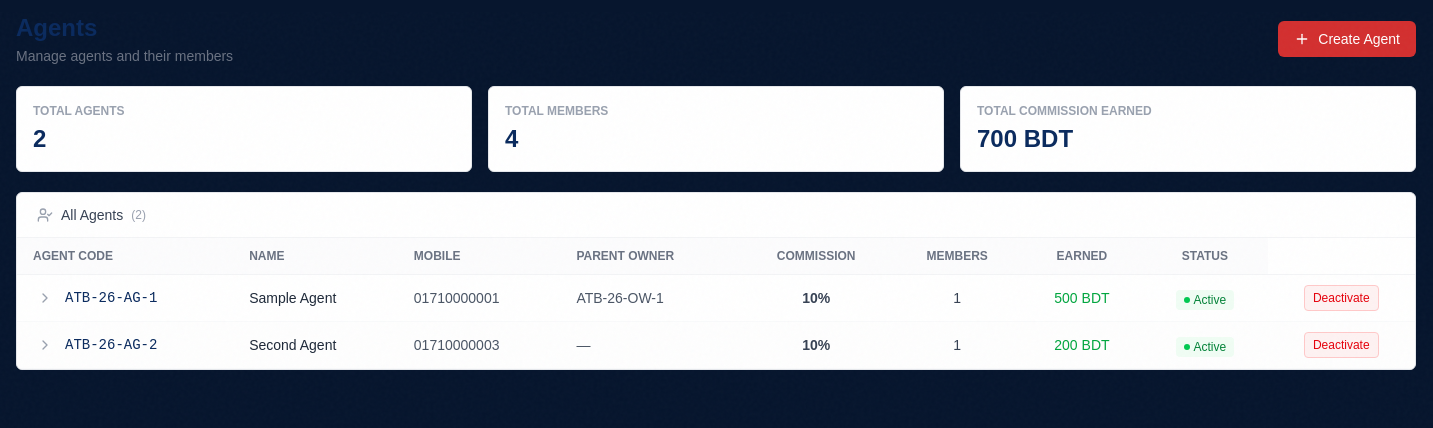
AgentsPage › expands to show member list when chevron clicked
Expected: the text "ATB-26-AG-1" is shown, [65,288,157,308]
Find the chevron button and click it
Step 1. Click the button without text next to "ATB-26-AG-1" → (45, 298), box [33,286,57,310]
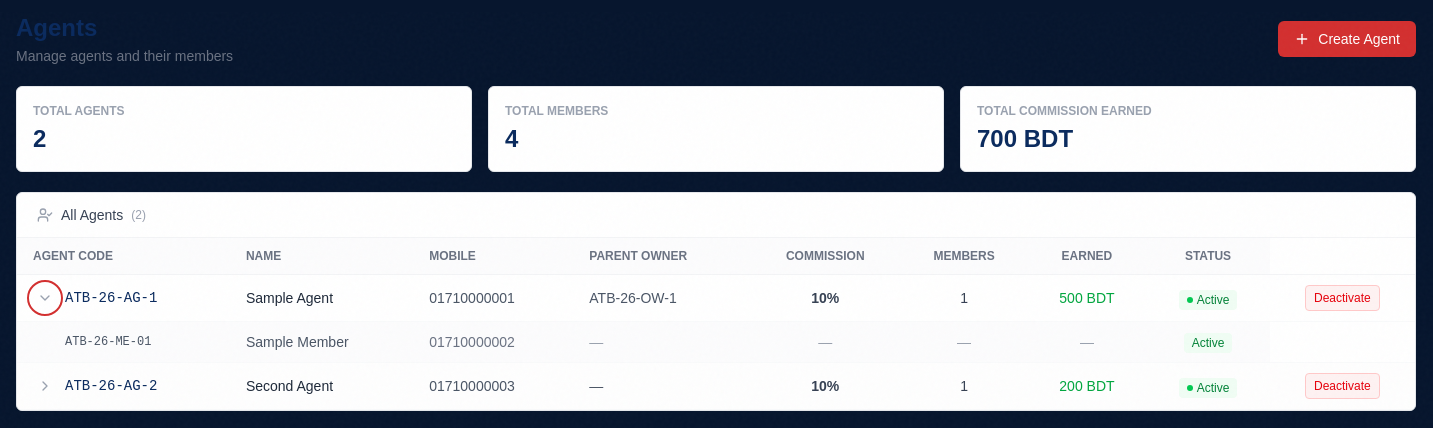
Expected: the text "ATB-26-ME-01" is shown, [17,322,230,362]
Expected: the text "Sample Member" is shown, [230,322,413,362]
